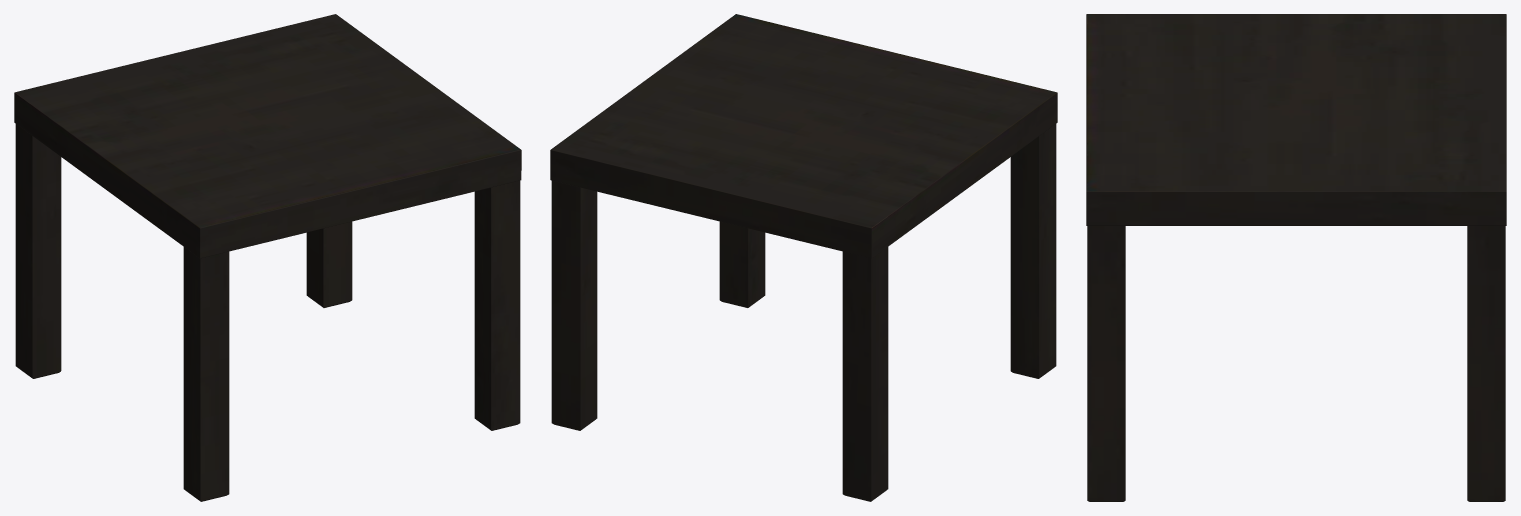
3 views of the same model, side by side, from view 1: azimuth 30°, elevation 25°; view 2: azimuth 150°, elevation 25°; view 3: azimuth 270°, elevation 25° (orthographic). The views are drawn at different scales.
Visible parts, largest first — view 1: model; view 2: model; view 3: model.
Part boxes in pixels (x1,y1,x2,y2): model: [14, 14, 521, 501]; model: [550, 14, 1057, 501]; model: [1086, 14, 1506, 501].
Bounding box in the file's own units: 0.55 × 0.4501 × 0.55.
Materials: 1 (1 with a texture image).
